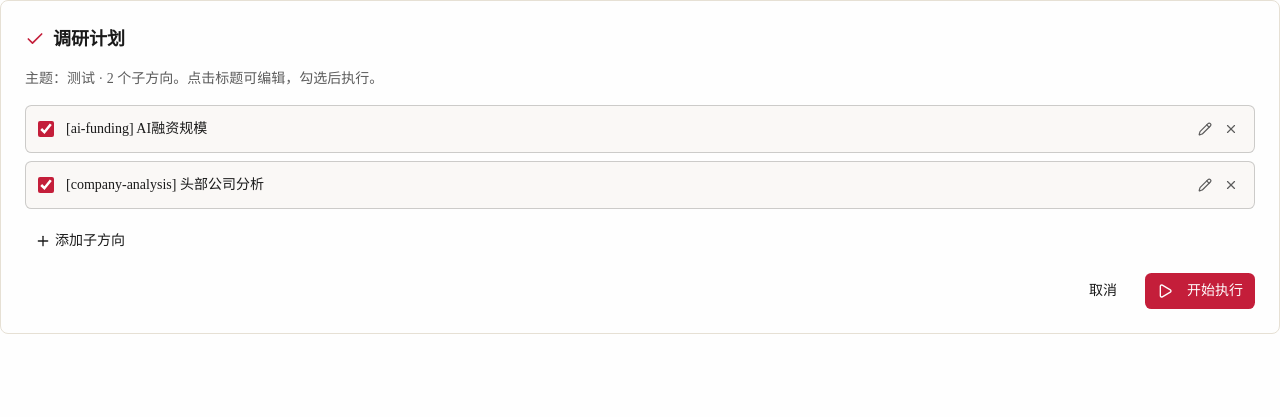
Test: PlanReview › 点击添加按钮新增子方向
Click the button "添加子方向".
click(80, 241)  # box 25,225 -> 135,257
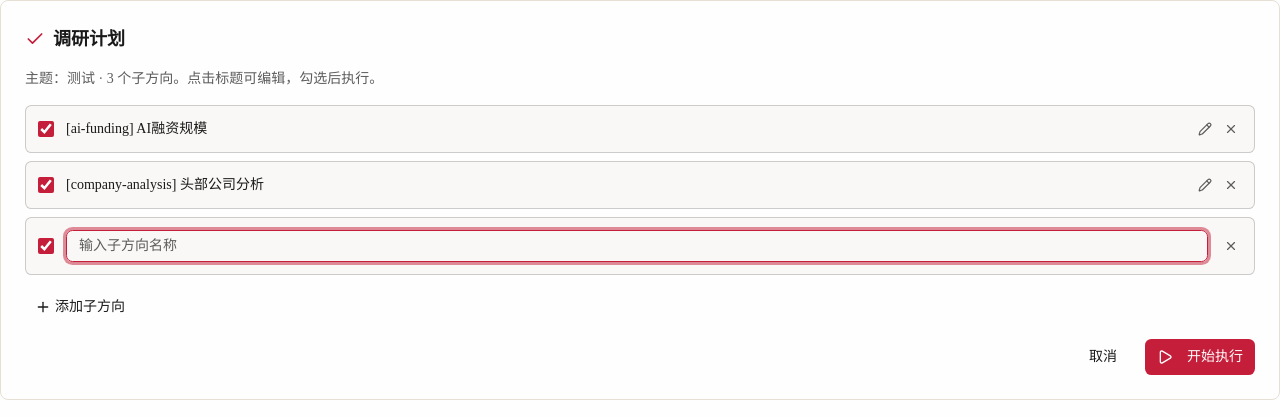
Expected: the field with placeholder "输入子方向名称" is shown, 66,230 -> 1208,262
